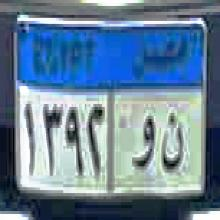1: (21, 100, 36, 174)
2: (86, 105, 105, 177)
3: (41, 99, 64, 176)
9: (64, 104, 83, 180)
noon: (159, 107, 185, 178)
waw: (131, 111, 156, 177)
